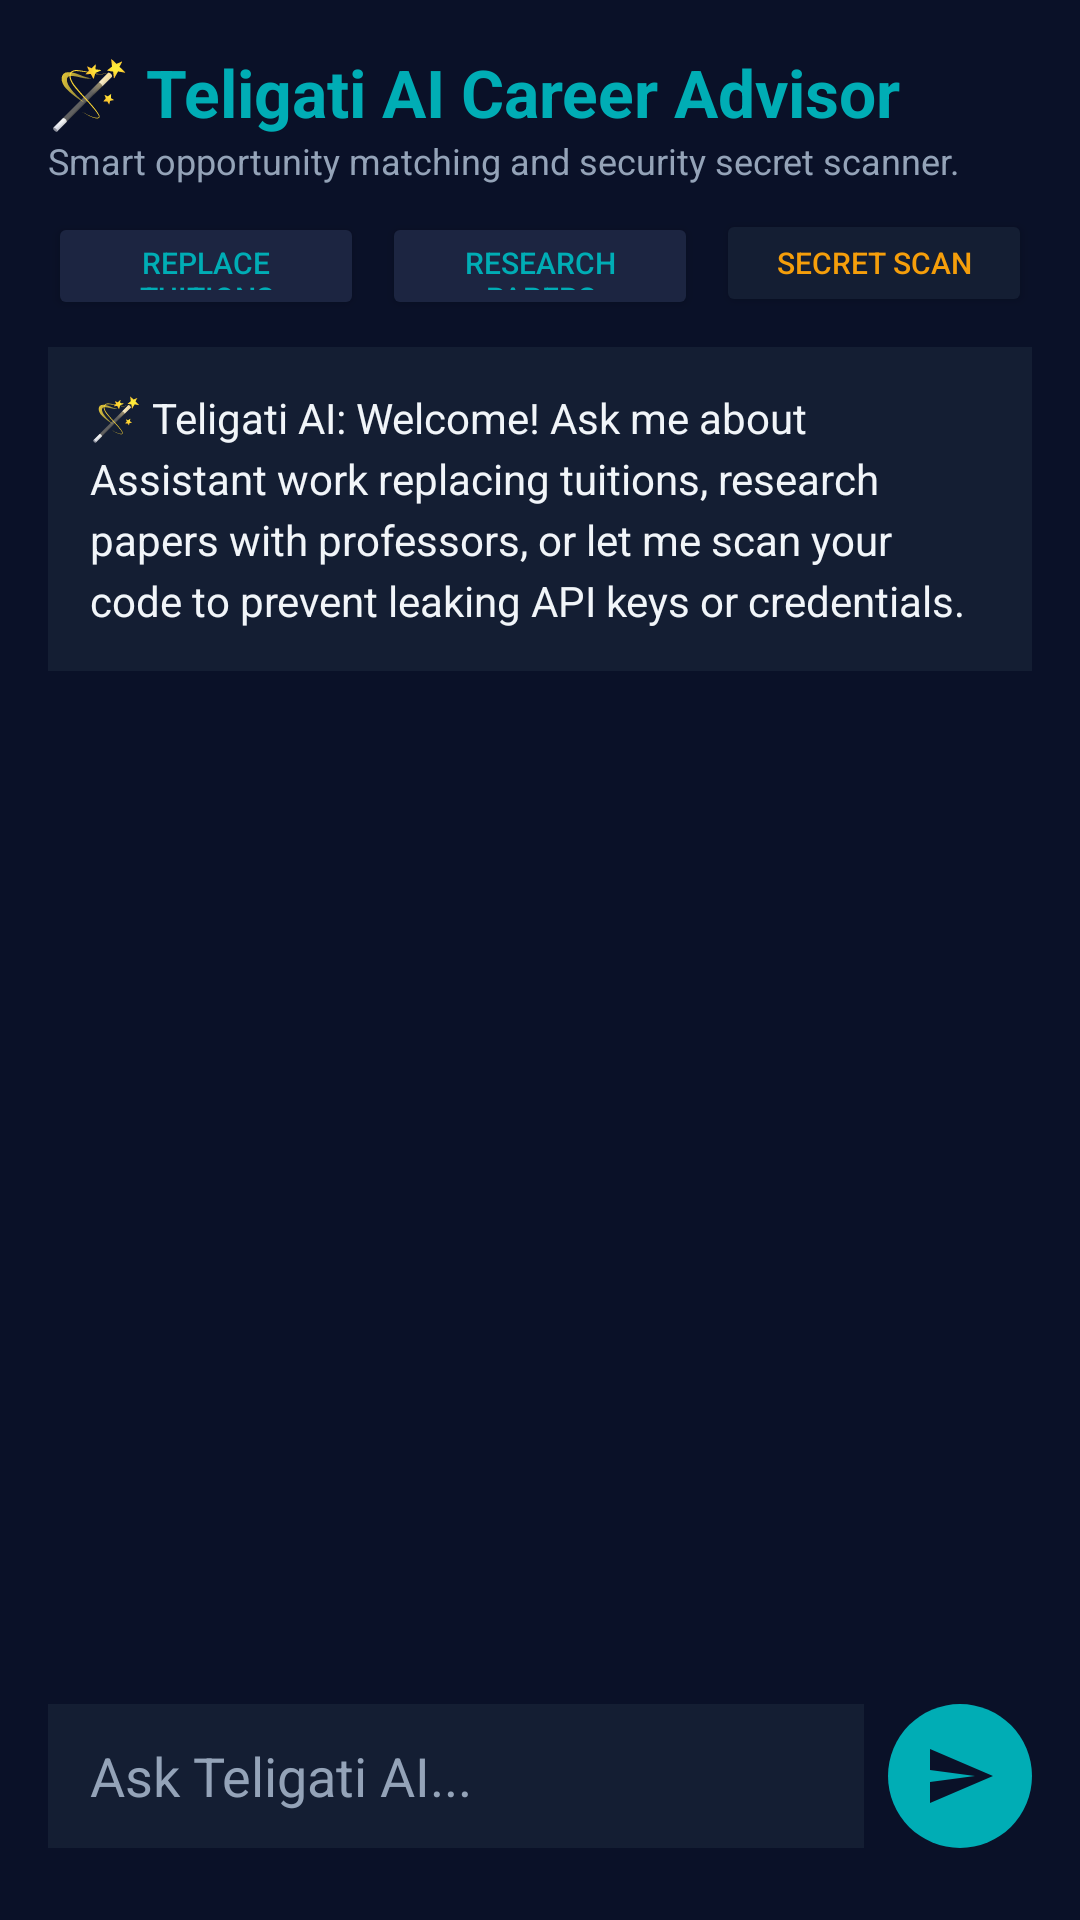

Where to tap for icons on this 1080x1920 app screen, as [x,y]:
Send: [960,1776]
